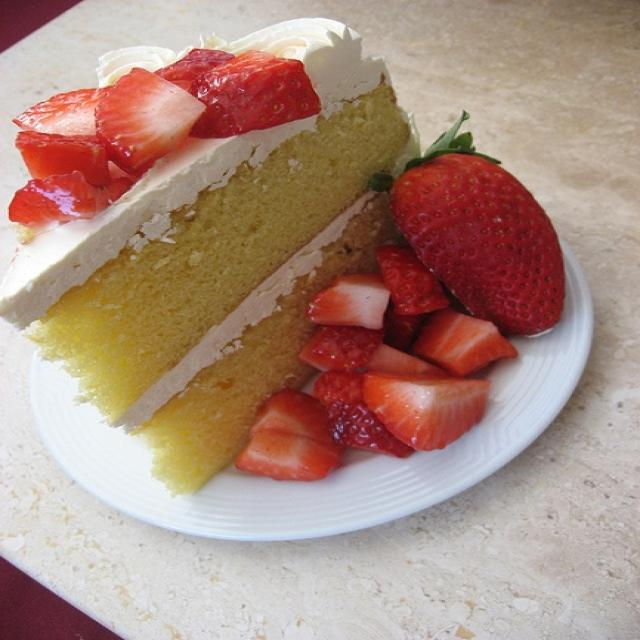蛋糕甜品: (6, 13, 599, 536)
